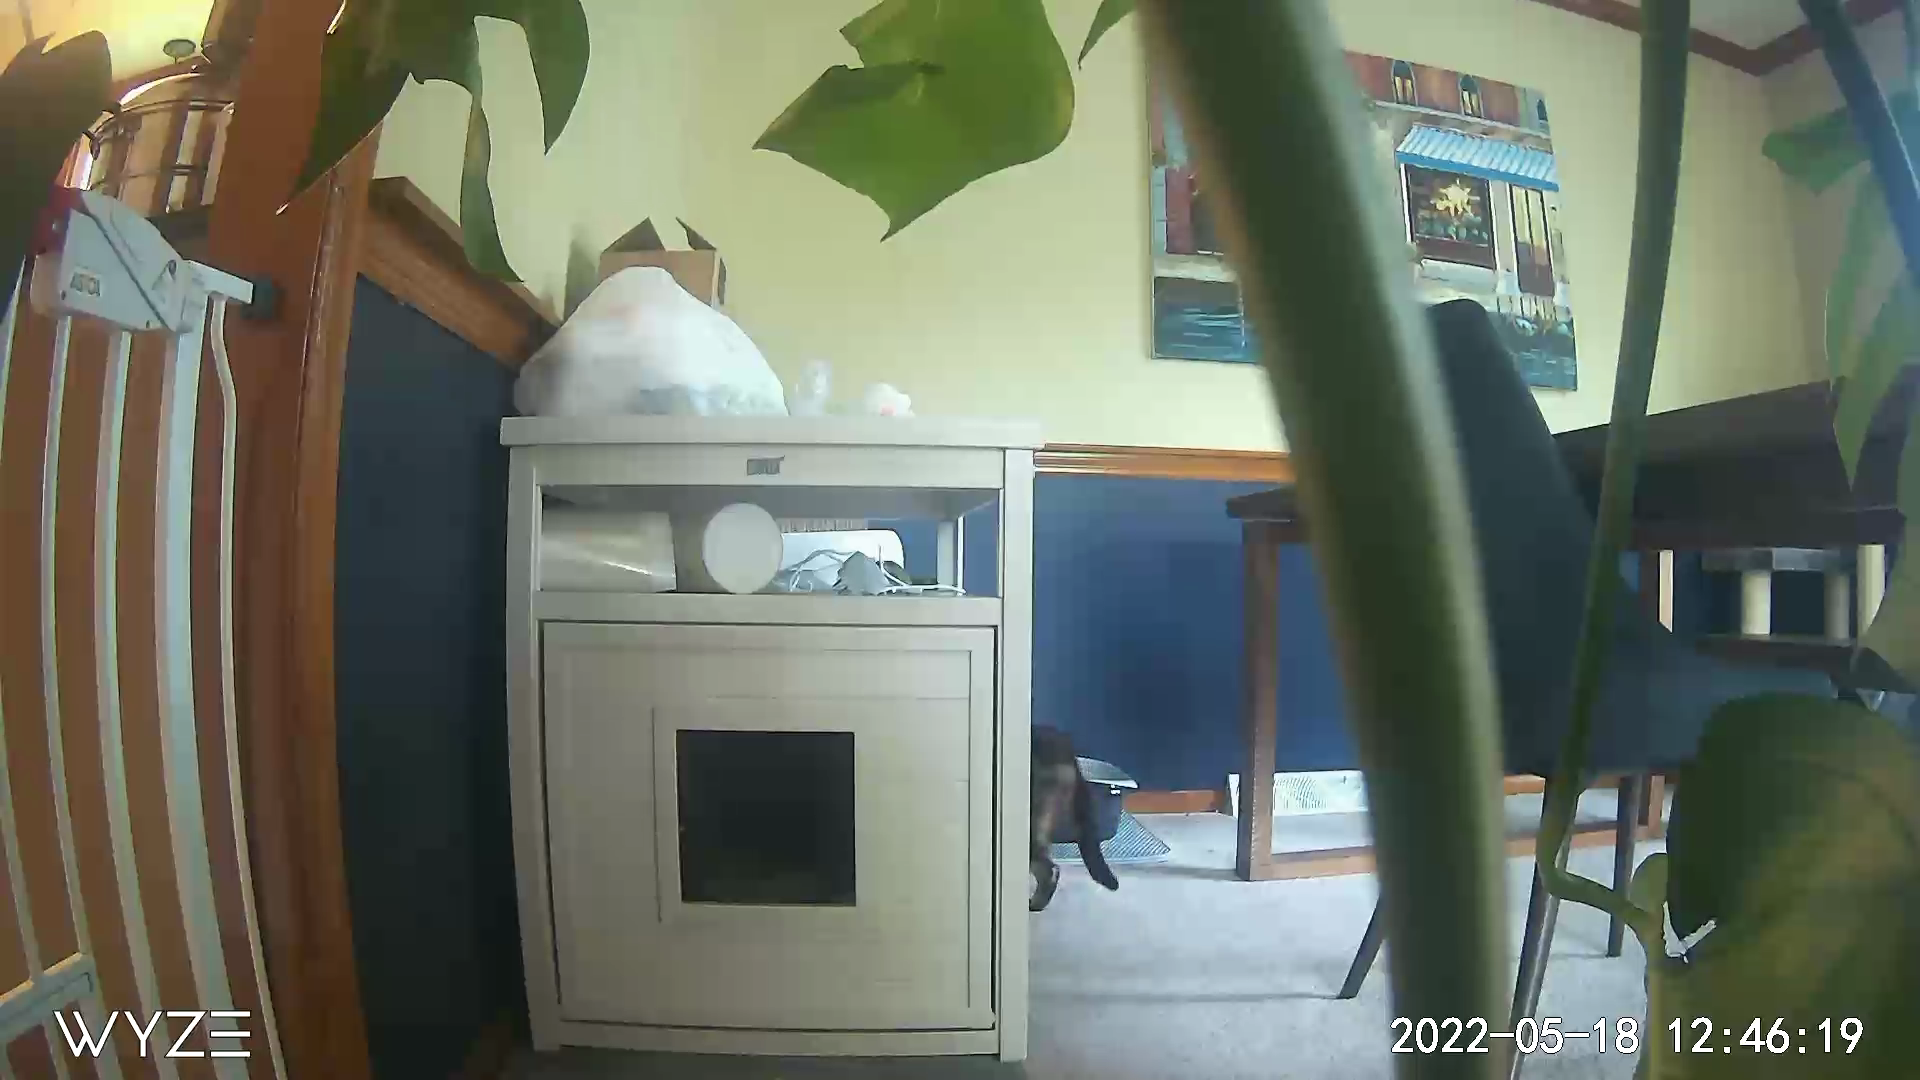sparky: (1034, 724, 1131, 898)
